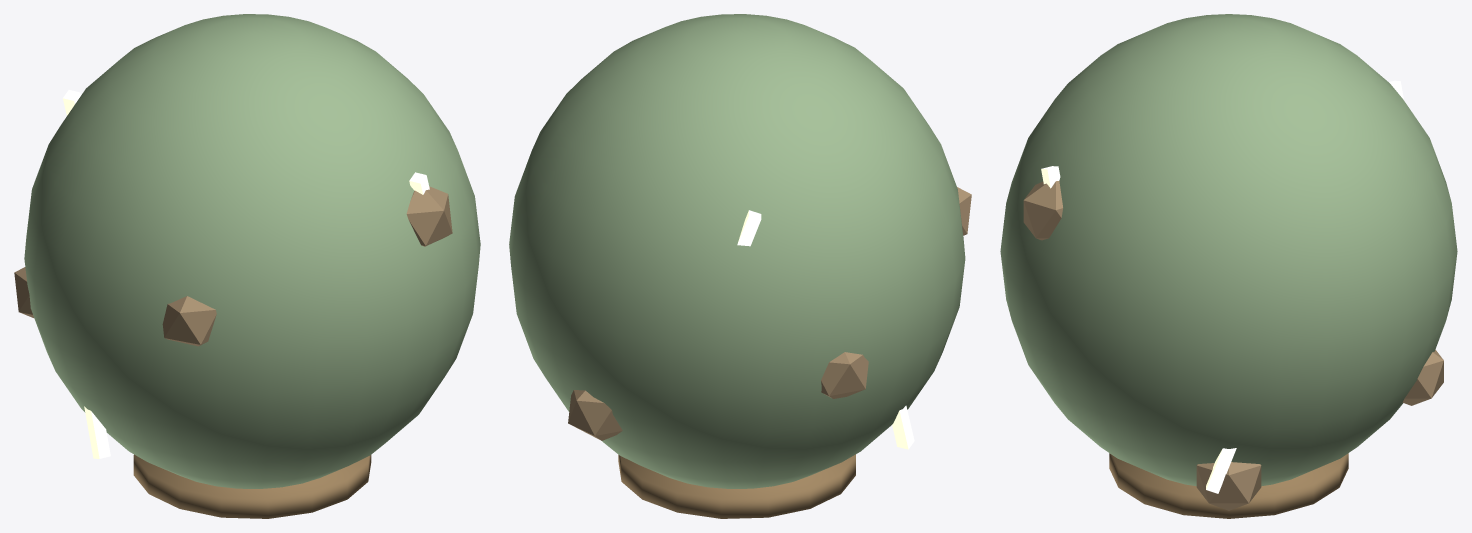
Rendered from egg_forest_07.glb.
3 renders of one model, left to right at view 1: azimuth 30°, elevation 25°; view 2: azimuth 150°, elevation 25°; view 3: azimuth 270°, elevation 25°, orthographic.
Parts seen in each view (by area): view 1: ball; view 2: ball; view 3: ball.
Boxes of the visible parts, x1=… form: ball: x1=14, y1=14, x2=480, y2=518; ball: x1=509, y1=14, x2=971, y2=518; ball: x1=1000, y1=14, x2=1457, y2=518.
Bounding box in the file's own units: 0.84 × 0.88 × 0.84.
